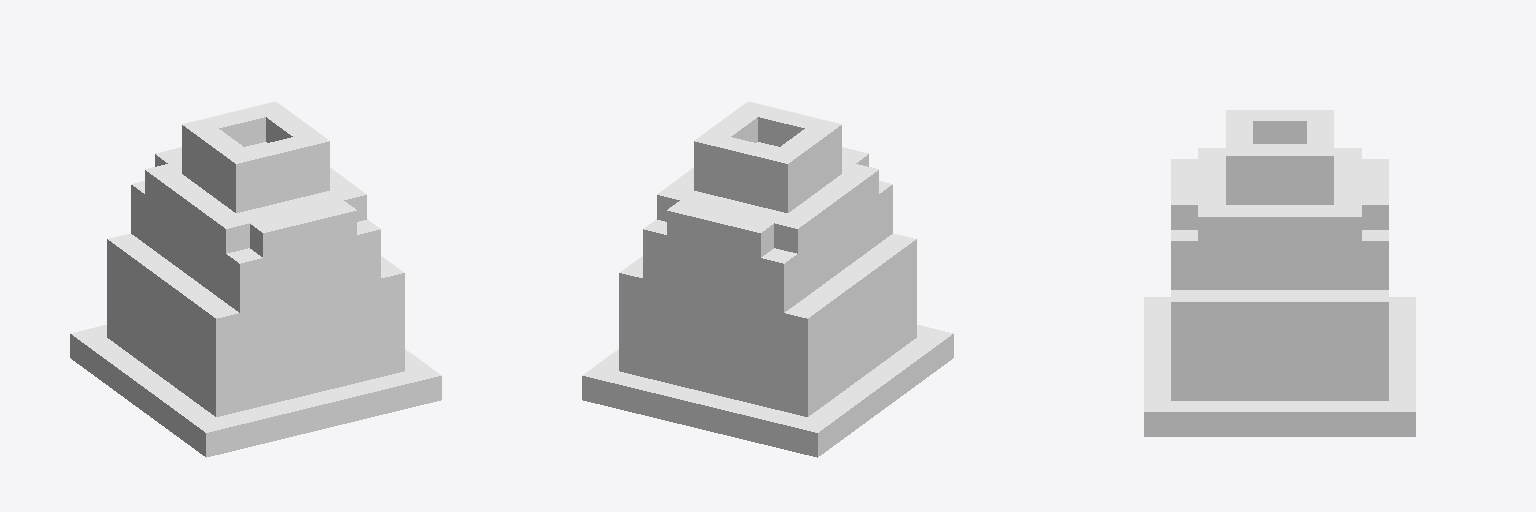
The model's file is exactionum_coactore.obj.
The picture shows the model from 3 angles: view 1: azimuth 30°, elevation 25°; view 2: azimuth 150°, elevation 25°; view 3: azimuth 270°, elevation 25°; orthographic projection.
Parts seen in each view (by area): view 1: exactionum_coactore; view 2: exactionum_coactore; view 3: exactionum_coactore.
Part boxes in pixels (bbox=[...]): exactionum_coactore: bbox=[70, 101, 441, 457]; exactionum_coactore: bbox=[582, 101, 953, 457]; exactionum_coactore: bbox=[1144, 110, 1415, 436].
Size of the model in its own units: 0.9752 by 0.9752 by 0.9752.